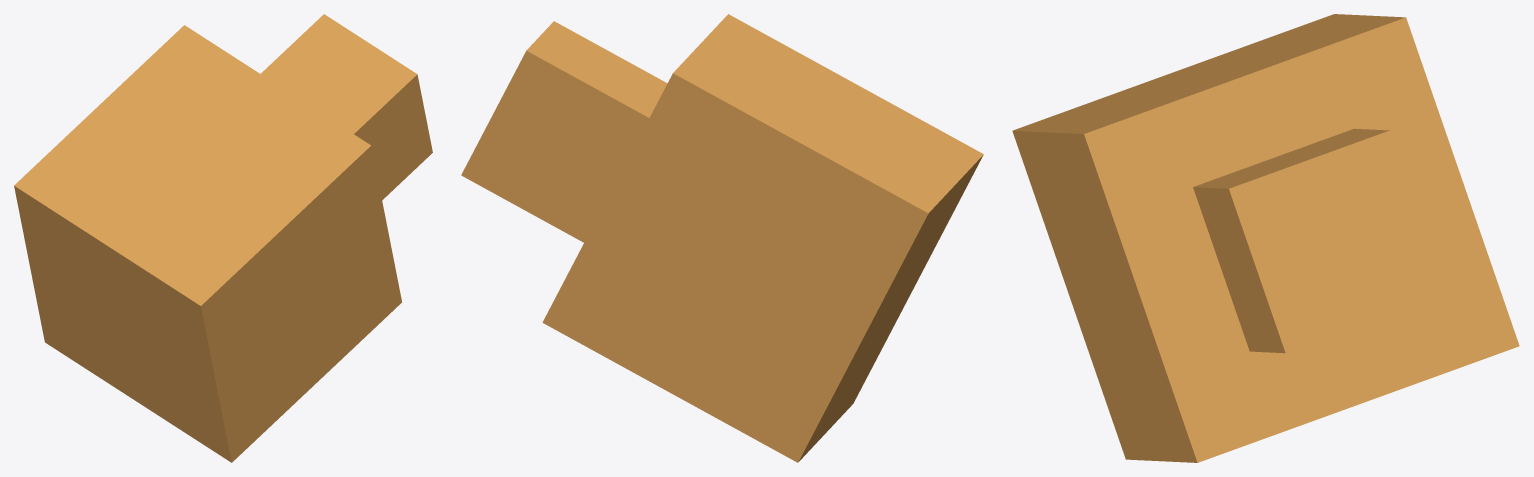
File: touchingCubes.glb
The picture shows the model from 3 angles, left to right: view 1: azimuth 30°, elevation 25°; view 2: azimuth 150°, elevation 25°; view 3: azimuth 270°, elevation 25°; orthographic projection. The views are drawn at different scales.
Visible parts, largest first — view 1: Cube, Cube.001; view 2: Cube, Cube.001; view 3: Cube, Cube.001.
Part boxes in pixels (box(x1,y1,x2,y2)): Cube: box(14, 25, 401, 462); Cube.001: box(261, 14, 432, 200); Cube: box(542, 14, 983, 462); Cube.001: box(461, 21, 667, 242); Cube: box(1012, 14, 1519, 462); Cube.001: box(1193, 128, 1446, 353).
Bounding box in the file's own units: 3.64 × 3.03 × 2.91.
